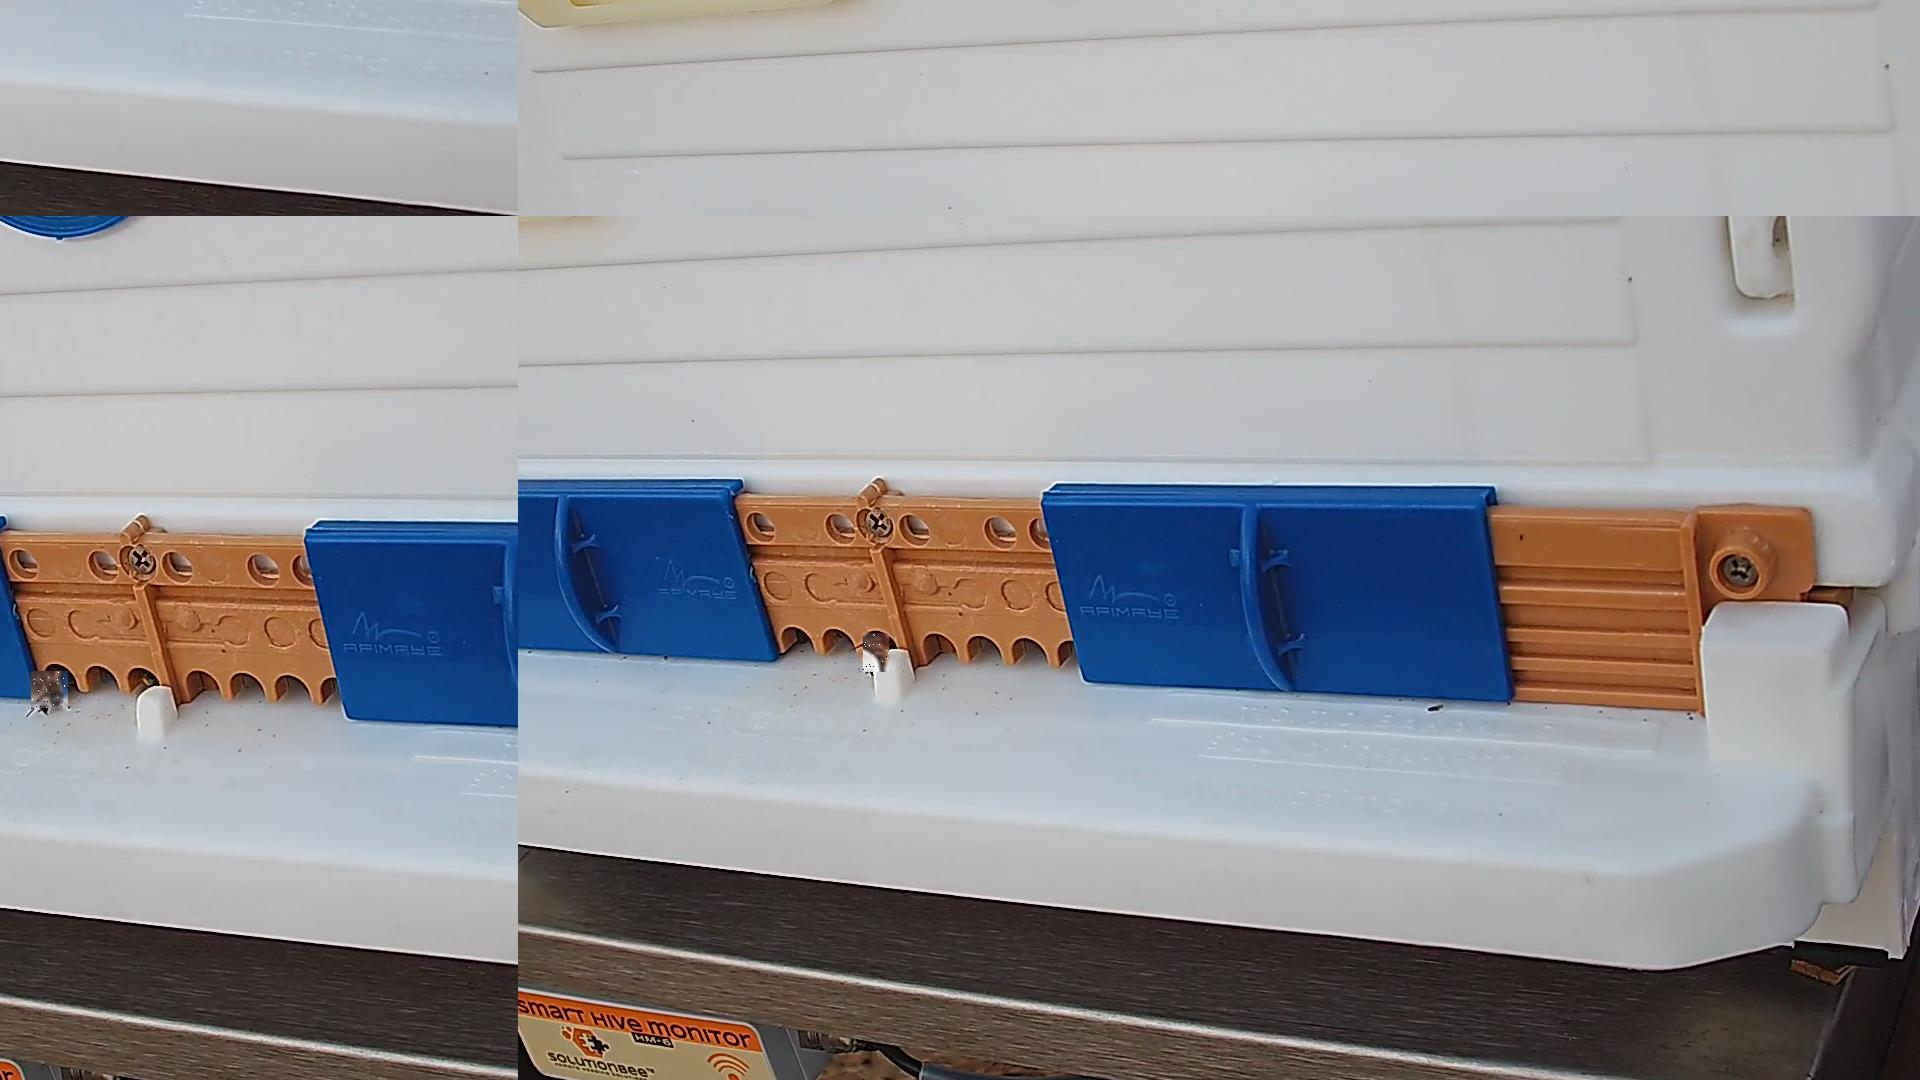bee: (32, 671, 69, 711), (864, 633, 890, 673)
